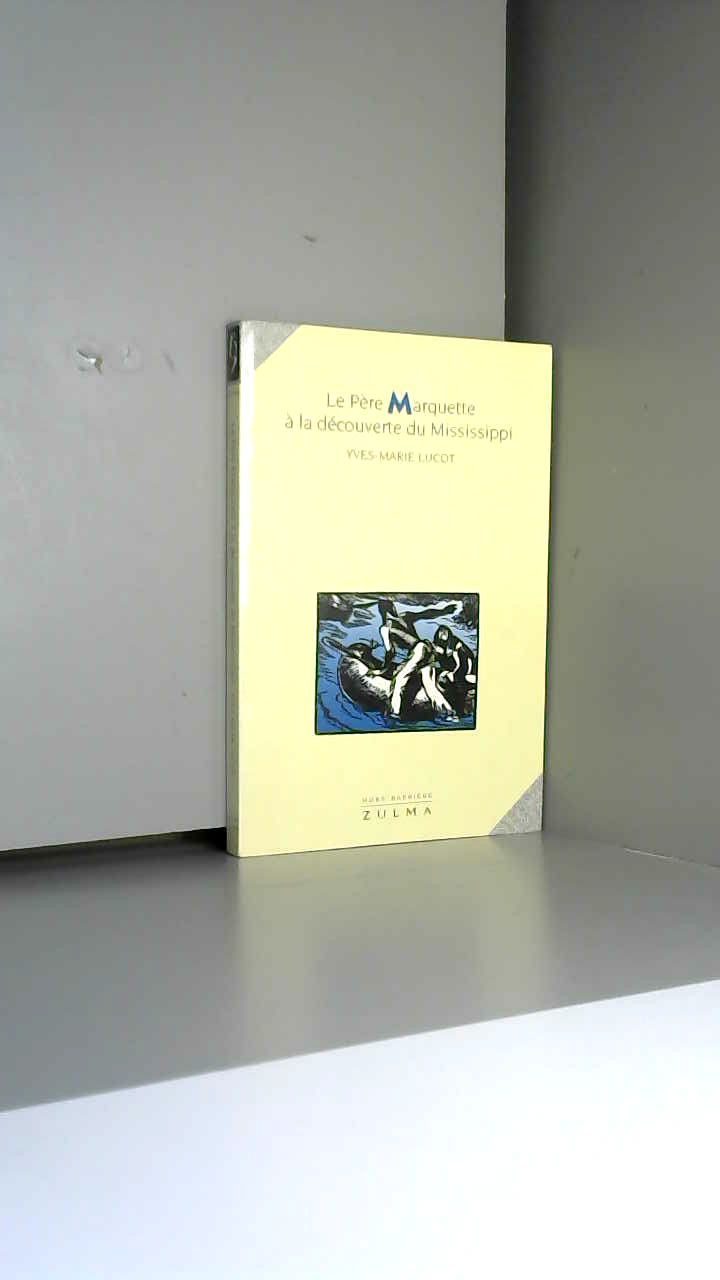book: (184, 274, 601, 910)
